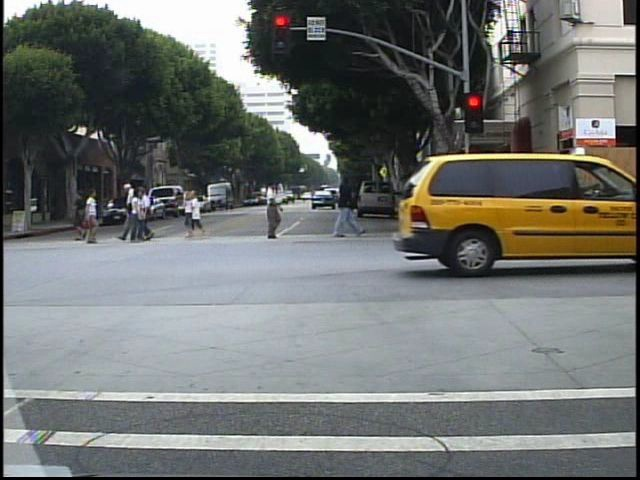person: (327, 164, 367, 243), (76, 187, 107, 249), (256, 181, 287, 241), (70, 186, 92, 241), (140, 184, 160, 242), (126, 178, 143, 245), (126, 187, 145, 245)
